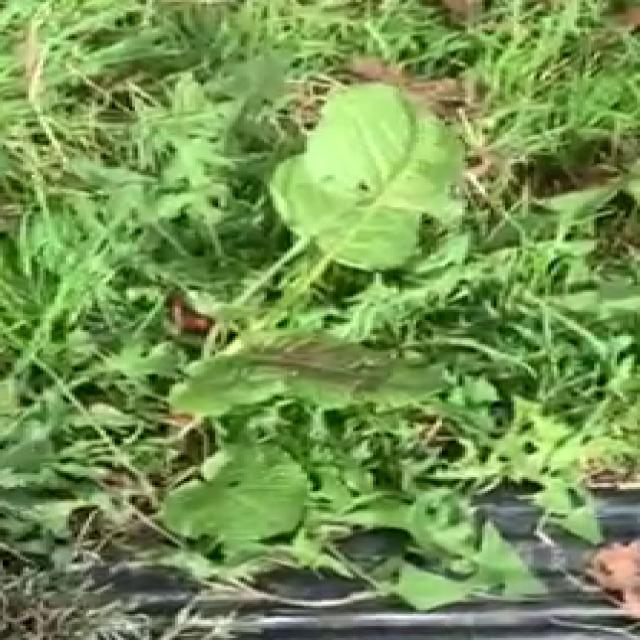organic waste: (106, 68, 520, 578)
